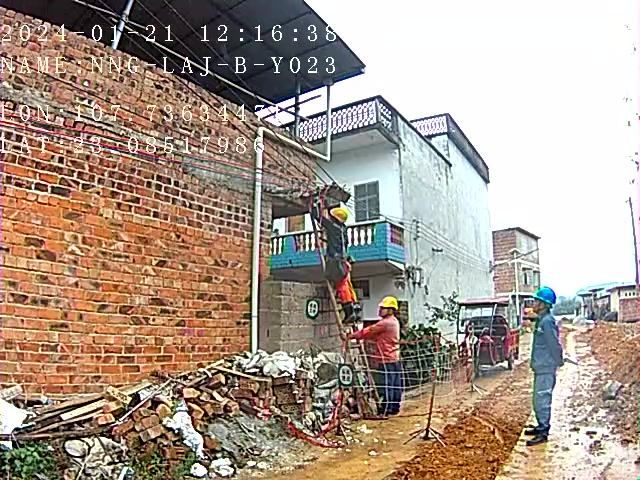halt: (534, 287, 559, 315), (380, 299, 401, 320), (329, 209, 352, 228)
inear: (538, 302, 550, 315)
